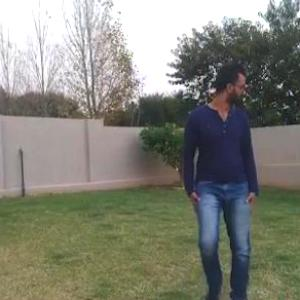follow: (173, 35, 271, 299)
